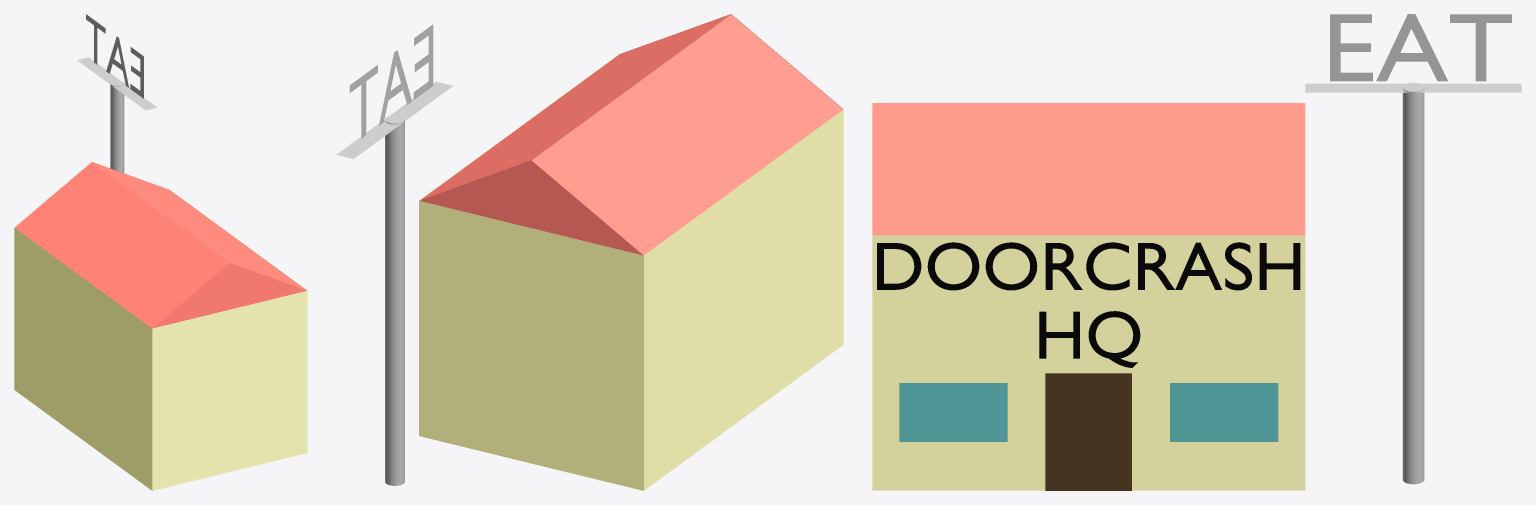
Rendered from restaurant2.fbx.
3 renders of one model, left to right at view 1: azimuth 30°, elevation 25°; view 2: azimuth 150°, elevation 25°; view 3: azimuth 270°, elevation 25°, orthographic. The views are drawn at different scales.
Parts seen in each view (by area): view 1: Plane.015, Plane.013, Plane.018, Plane.017, Circle.001, Cylinder, Text.001, Plane.019; view 2: Plane.014, Plane.013, Plane.018, Plane.017, Circle.002, Cylinder, Text.001, Plane.019; view 3: Plane.012, Plane.017, Plane.016, Text, Cylinder, Plane.020, Plane.021, Text.001, Plane.019.
Part boxes in pixels (<box>): Plane.015: <box>152,290,307,490</box>; Plane.013: <box>14,228,152,490</box>; Plane.018: <box>15,162,229,328</box>; Plane.017: <box>93,162,305,289</box>; Circle.001: <box>153,263,306,328</box>; Cylinder: <box>110,80,124,173</box>; Text.001: <box>86,14,143,98</box>; Plane.019: <box>77,57,157,110</box>; Plane.014: <box>419,201,643,490</box>; Plane.013: <box>644,109,843,490</box>; Plane.018: <box>532,14,842,255</box>; Plane.017: <box>421,14,730,199</box>; Circle.002: <box>419,160,643,255</box>; Cylinder: <box>385,115,404,485</box>; Text.001: <box>349,24,433,138</box>; Plane.019: <box>336,81,452,158</box>; Plane.012: <box>872,235,1305,490</box>; Plane.017: <box>872,103,1305,235</box>; Plane.016: <box>1045,373,1131,490</box>; Text: <box>877,242,1300,367</box>; Cylinder: <box>1402,82,1424,484</box>; Plane.020: <box>899,383,1007,441</box>; Plane.021: <box>1170,383,1278,441</box>; Text.001: <box>1330,14,1511,81</box>; Plane.019: <box>1305,83,1521,92</box>.
Bounding box in the file's own units: 261 × 475 × 600.
